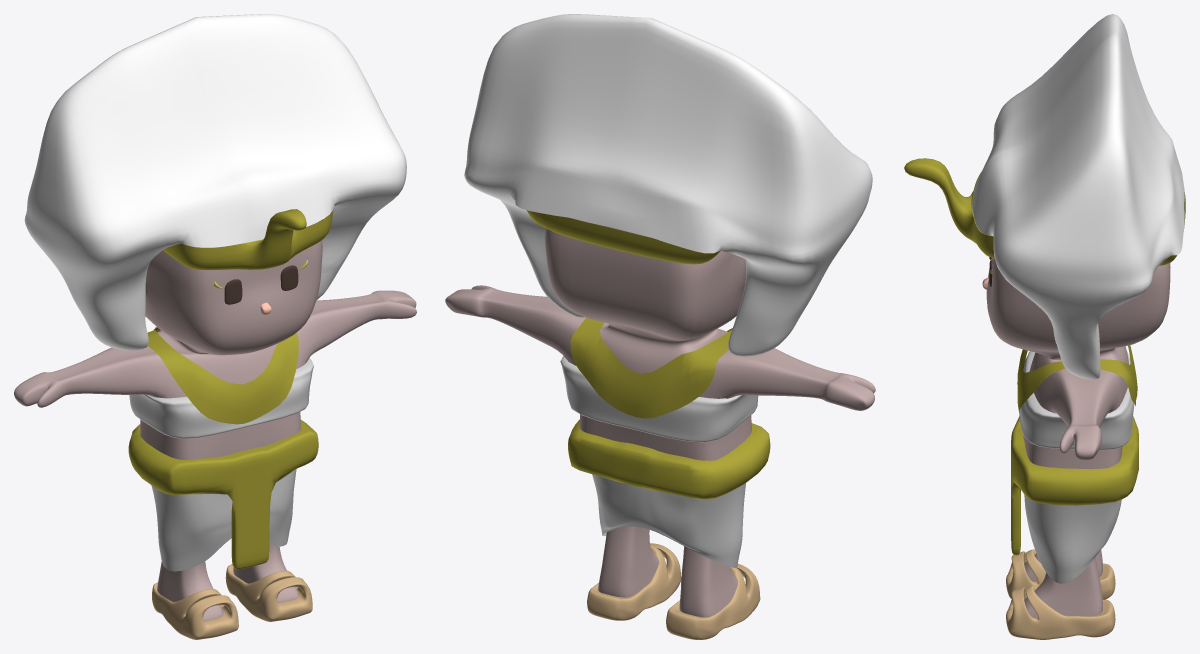
Rendered from chica_egipto.fbx.
3 renders of one model, left to right at view 1: azimuth 30°, elevation 25°; view 2: azimuth 150°, elevation 25°; view 3: azimuth 270°, elevation 25°, orthographic. The views are drawn at different scales.
Visible parts, largest first — view 1: Gorro, Cuerpo, Cinturon, Pantalones, Collar, Sandalias, Corona_Gorro_, Tela, Ojos; view 2: Gorro, Cuerpo, Cinturon, Pantalones, Collar, Sandalias, Tela, Corona_Gorro_; view 3: Gorro, Cuerpo, Cinturon, Pantalones, Sandalias, Tela, Corona_Gorro_, Collar.
Boxes of the visible parts, left/top/right/bottom form: Gorro: left=24, top=14, right=406, bottom=350; Cuerpo: left=14, top=221, right=416, bottom=621; Cinturon: left=128, top=419, right=318, bottom=569; Pantalones: left=151, top=469, right=296, bottom=571; Collar: left=147, top=327, right=298, bottom=424; Sandalias: left=152, top=564, right=312, bottom=639; Corona_Gorro_: left=163, top=209, right=333, bottom=270; Tela: left=129, top=358, right=313, bottom=438; Ojos: left=224, top=265, right=298, bottom=304; Gorro: left=464, top=14, right=872, bottom=356; Cuerpo: left=445, top=217, right=875, bottom=617; Cinturon: left=568, top=419, right=770, bottom=499; Pantalones: left=592, top=474, right=745, bottom=567; Collar: left=570, top=318, right=732, bottom=418; Sandalias: left=587, top=543, right=760, bottom=639; Tela: left=560, top=356, right=758, bottom=442; Corona_Gorro_: left=526, top=210, right=720, bottom=264; Gorro: left=972, top=14, right=1184, bottom=379; Cuerpo: left=986, top=257, right=1170, bottom=618; Cinturon: left=1011, top=416, right=1138, bottom=555; Pantalones: left=1024, top=495, right=1121, bottom=583; Sandalias: left=1006, top=549, right=1115, bottom=639; Tela: left=1019, top=350, right=1134, bottom=450; Corona_Gorro_: left=904, top=158, right=1185, bottom=265; Collar: left=1017, top=345, right=1137, bottom=410.
Bounding box in the file's own units: 202 × 280 × 125.
